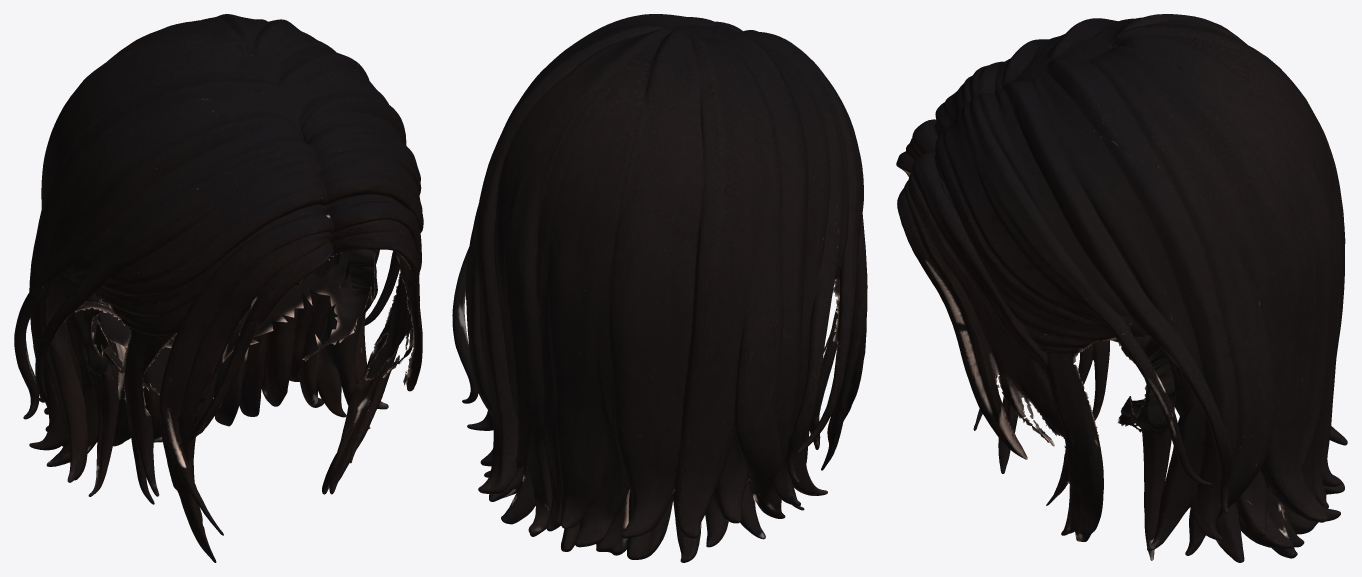
The model's file is hair.glb.
The picture shows the model from 3 angles, left to right: view 1: azimuth 30°, elevation 25°; view 2: azimuth 150°, elevation 25°; view 3: azimuth 270°, elevation 25°; orthographic projection. The views are drawn at different scales.
Parts seen in each view (by area): view 1: Hair; view 2: Hair; view 3: Hair.
Part boxes in pixels (box(x1,y1,x2,y2)): Hair: box(14, 14, 423, 562); Hair: box(452, 14, 867, 562); Hair: box(896, 14, 1347, 562).
Bounding box in the file's own units: 0.4017 × 0.4908 × 0.4099.
Materials: 1 (1 with a texture image).
